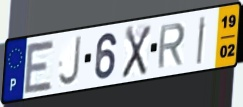6: (94, 31, 119, 81)
E: (22, 39, 56, 96)
I: (195, 15, 208, 67)
J: (57, 34, 83, 88)
R: (156, 21, 187, 71)
X: (120, 23, 153, 80)
